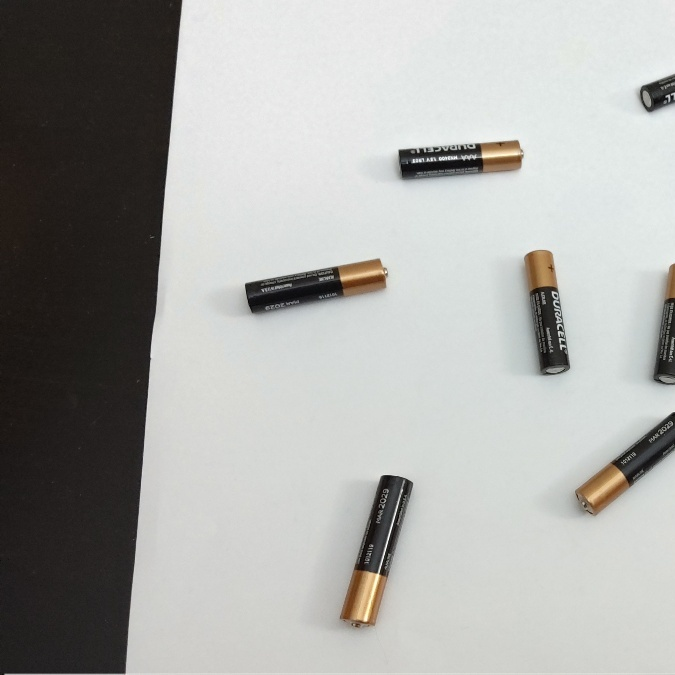battery: (335, 458, 411, 635), (242, 247, 395, 317), (513, 246, 568, 377), (390, 131, 526, 180)
